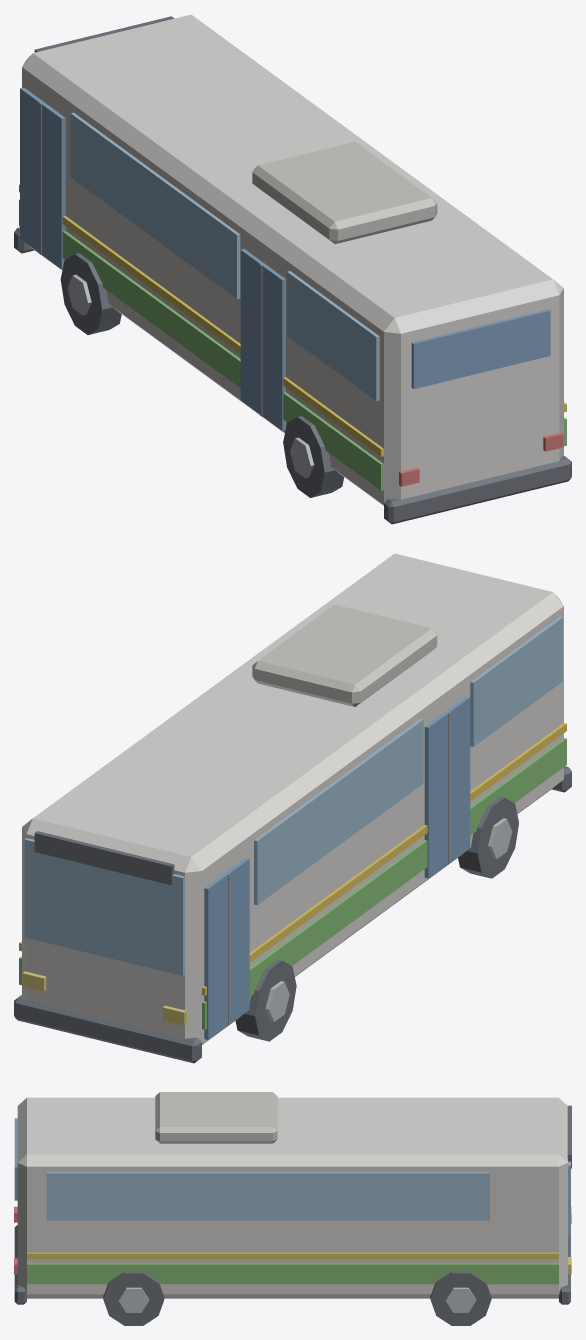
The model's file is veiculos__onibus.glb.
3 views of the same model, one above another, from view 1: azimuth 30°, elevation 25°; view 2: azimuth 150°, elevation 25°; view 3: azimuth 270°, elevation 25° (orthographic). The views are drawn at different scales.
Parts seen in each view (by area): view 1: veiculos__onibus; view 2: veiculos__onibus; view 3: veiculos__onibus.
Boxes of the visible parts, box(x1,y1,x2,y2) form: veiculos__onibus: box(14, 14, 571, 524); veiculos__onibus: box(14, 553, 571, 1063); veiculos__onibus: box(14, 1092, 571, 1325).
Bounding box in the file's own units: 0.56 × 0.6551 × 1.83.
